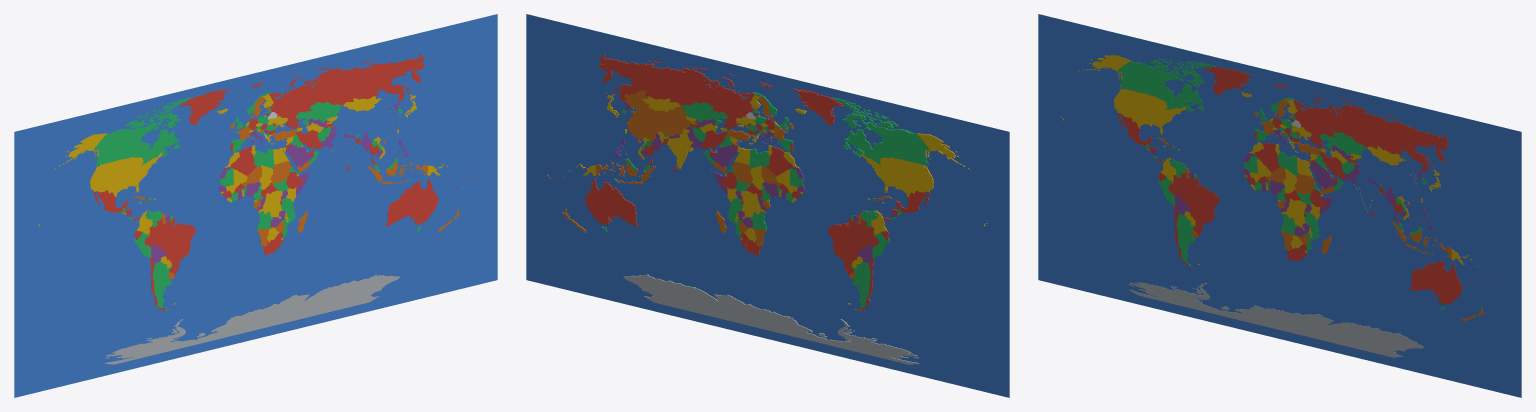
Rendered from world_map_semiseparated.glb.
3 views of the same model, side by side, from view 1: azimuth 30°, elevation 25°; view 2: azimuth 150°, elevation 25°; view 3: azimuth 330°, elevation 25° (orthographic).
Visible parts, largest first — view 1: 1Sea, 1map, Antarctica, Canada, Brazil, Australia, Argentina, Algeria; view 2: 1Sea, 1map, Antarctica, Canada, China, Australia, Brazil, Argentina, Algeria; view 3: 1Sea, 1map, Antarctica, Canada, Brazil, Australia, Argentina, Algeria.
Part boxes in pixels (x1,y1,x2,y2): 1Sea: (14,14,497,397); 1map: (36,54,476,304); Antarctica: (105,274,400,364); Canada: (93,97,190,166); Brazil: (144,217,195,275); Australia: (385,178,438,231); Argentina: (152,261,172,310); Algeria: (231,146,256,176); 1Sea: (526,14,1009,397); 1map: (547,54,987,304); Antarctica: (623,274,918,364); Canada: (832,97,930,166); China: (624,90,691,143); Australia: (585,178,638,232); Brazil: (828,217,879,275); Argentina: (851,262,870,310); Algeria: (767,146,792,176); 1Sea: (1038,14,1521,397); 1map: (1060,55,1500,321); Antarctica: (1128,282,1424,357); Canada: (1117,59,1215,112); Brazil: (1168,173,1219,236); Australia: (1409,259,1462,310); Argentina: (1176,214,1196,267); Algeria: (1254,143,1280,171).
Bounding box in the file's own units: 9.94 × 5.23 × 0.0377.
